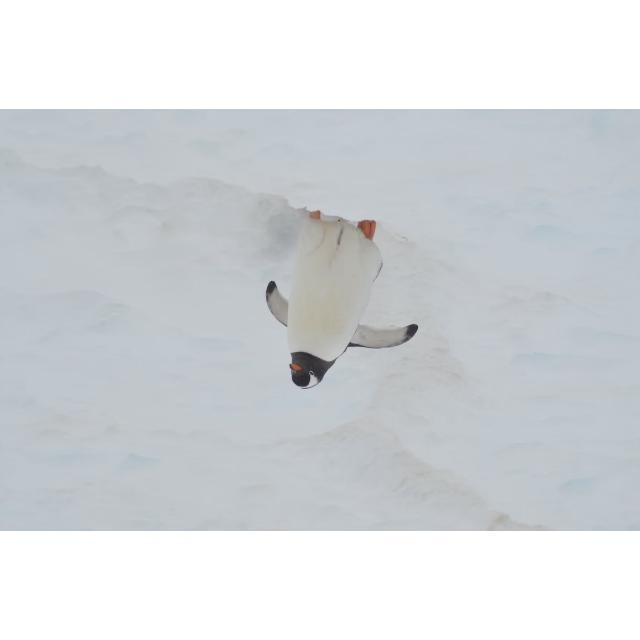penguin: (263, 209, 419, 391)
